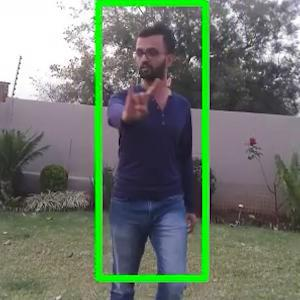takeoff-hand: (115, 72, 160, 126)
